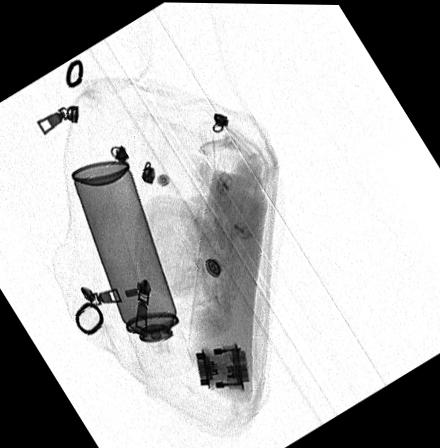Sprayer: (71, 160, 196, 379)
